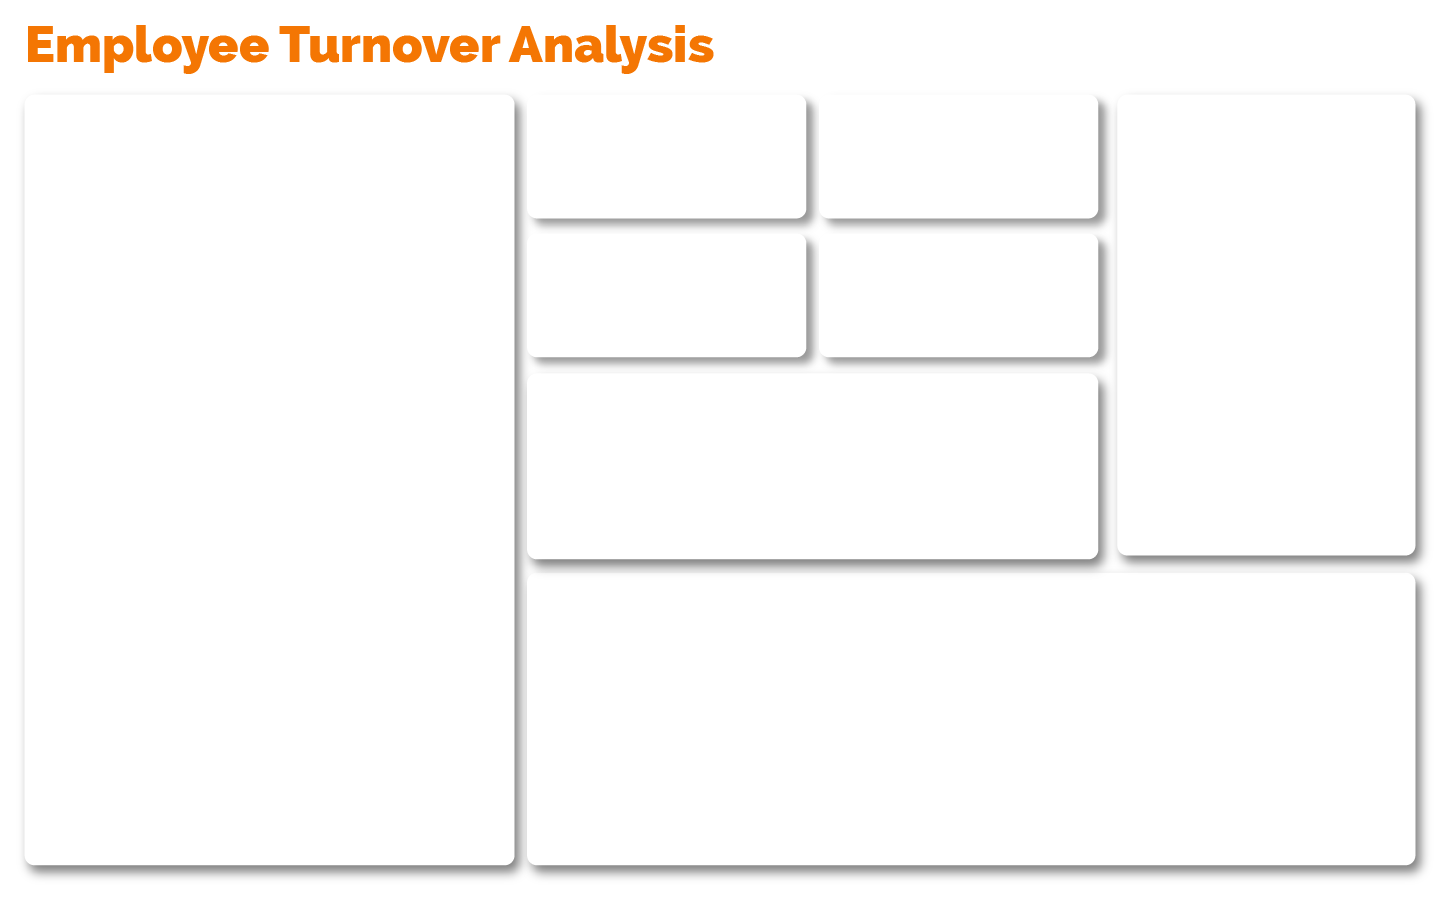

The dashboard page shown, as its layout file describes it:
{"tool":"powerbi","page":{"name":" Analysis ","canvas":[1440,900],"ordinal":2},"visuals":[{"type":"card","fields":{"Values":["public employee_attrition_dataset.total_employee"]},"box":[542.9,108.2,249.5,86.2],"z":0},{"type":"card","fields":{"Values":["public employee_attrition_dataset.total_attrition"]},"box":[841.5,103.9,238.5,95.4],"z":1000},{"type":"card","fields":{"Values":["public employee_attrition_dataset.attrition_rate"]},"box":[543.4,243.6,248.7,95.4],"z":2000},{"type":"card","fields":{"Values":["public employee_attrition_dataset.avg_tenure"]},"box":[841.5,243.6,238.5,95.4],"z":3000},{"type":"textbox","box":[542.9,95.4,249.5,56.9],"z":4000},{"type":"textbox","box":[841.9,95.4,238.5,56.9],"z":5000},{"type":"textbox","box":[542.9,234.8,249.5,56.9],"z":6000},{"type":"textbox","box":[841.9,234.8,238.5,56.9],"z":7000},{"type":"advancedSlicerVisual","fields":{"Values":["public employee_attrition_dataset.Gender"]},"box":[1136.9,13,278.2,57.5],"z":8000},{"type":"pageNavigator","box":[791.9,16.7,337.5,51.9],"z":9000},{"type":"tableEx","fields":{"Values":["public employee_attrition_dataset.Education Level","public employee_attrition_dataset.Job Role","public employee_attrition_dataset.total_employee","Avg(public employee_attrition_dataset.Performance Rating)","public employee_attrition_dataset.total_attrition","public employee_attrition_dataset.attrition_rate"]},"box":[542.9,585.1,856.6,258.6],"z":10000},{"type":"clusteredColumnChart","fields":{"Category":["public employee_attrition_dataset.Attrition"],"Y":["public employee_attrition_dataset.total_employee"]},"box":[542.9,383.4,537.4,157.7],"z":11000},{"type":"donutChart","fields":{"Y":["public employee_attrition_dataset.total_attrition"],"Category":["public employee_attrition_dataset.Work-Life Balance Label"]},"box":[1129.9,113.7,269.6,201.8],"z":12000},{"type":"donutChart","fields":{"Y":["public employee_attrition_dataset.attrition_rate"],"Category":["public employee_attrition_dataset.Job Satisfaction Label"]},"box":[1129.9,348.5,269.6,192.6],"z":13000},{"type":"textbox","box":[1129.9,313.7,284.3,40.4],"z":14000},{"type":"textbox","box":[542.9,363.2,497.1,40.4],"z":15000},{"type":"textbox","box":[1129.9,93.5,271.5,34.9],"z":16000},{"type":"textbox","box":[42.2,93.5,427.4,38.5],"z":17000},{"type":"clusteredBarChart","fields":{"Category":["public employee_attrition_dataset.Leadership Label"],"Y":["public employee_attrition_dataset.total_attrition"]},"box":[42.2,104.6,445.7,231.1],"z":18000},{"type":"clusteredBarChart","fields":{"Y":["public employee_attrition_dataset.total_attrition"],"Category":["public employee_attrition_dataset.Performance Rating Label"]},"box":[42.2,612.6,445.7,231.1],"z":19000},{"type":"clusteredBarChart","fields":{"Category":["public employee_attrition_dataset.Recognition Label"],"Y":["public employee_attrition_dataset.total_attrition"]},"box":[42.2,363.2,445.7,231.1],"z":20000},{"type":"textbox","box":[42.2,594.3,427.4,38.5],"z":21000},{"type":"textbox","box":[42.2,344.8,427.4,38.5],"z":22000}]}

Visuals, with their boxes in screenshot pixels (x1, y1, x2, y2), scaled from the page's 1440x900 canvas onto the 1440x900 screenshot:
card - public employee_attrition_dataset.total_employee: select_region(543, 108, 792, 194)
card - public employee_attrition_dataset.total_attrition: select_region(842, 104, 1080, 199)
card - public employee_attrition_dataset.attrition_rate: select_region(543, 244, 792, 339)
card - public employee_attrition_dataset.avg_tenure: select_region(842, 244, 1080, 339)
textbox: select_region(543, 95, 792, 152)
textbox: select_region(842, 95, 1080, 152)
textbox: select_region(543, 235, 792, 292)
textbox: select_region(842, 235, 1080, 292)
advancedSlicerVisual - public employee_attrition_dataset.Gender: select_region(1137, 13, 1415, 70)
pageNavigator: select_region(792, 17, 1129, 69)
tableEx - public employee_attrition_dataset.Education Level x public employee_attrition_dataset.Job Role: select_region(543, 585, 1400, 844)
clusteredColumnChart - public employee_attrition_dataset.Attrition x public employee_attrition_dataset.total_employee: select_region(543, 383, 1080, 541)
donutChart - public employee_attrition_dataset.total_attrition x public employee_attrition_dataset.Work-Life Balance Label: select_region(1130, 114, 1400, 316)
donutChart - public employee_attrition_dataset.attrition_rate x public employee_attrition_dataset.Job Satisfaction Label: select_region(1130, 348, 1400, 541)
textbox: select_region(1130, 314, 1414, 354)
textbox: select_region(543, 363, 1040, 404)
textbox: select_region(1130, 94, 1401, 128)
textbox: select_region(42, 94, 470, 132)
clusteredBarChart - public employee_attrition_dataset.Leadership Label x public employee_attrition_dataset.total_attrition: select_region(42, 105, 488, 336)
clusteredBarChart - public employee_attrition_dataset.total_attrition x public employee_attrition_dataset.Performance Rating Label: select_region(42, 613, 488, 844)
clusteredBarChart - public employee_attrition_dataset.Recognition Label x public employee_attrition_dataset.total_attrition: select_region(42, 363, 488, 594)
textbox: select_region(42, 594, 470, 633)
textbox: select_region(42, 345, 470, 383)
